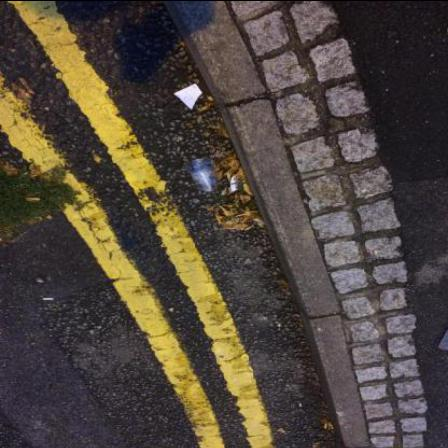Cup: (184, 159, 219, 192)
Paper: (175, 84, 203, 110)
Unlabeled litter: (232, 177, 248, 193)
